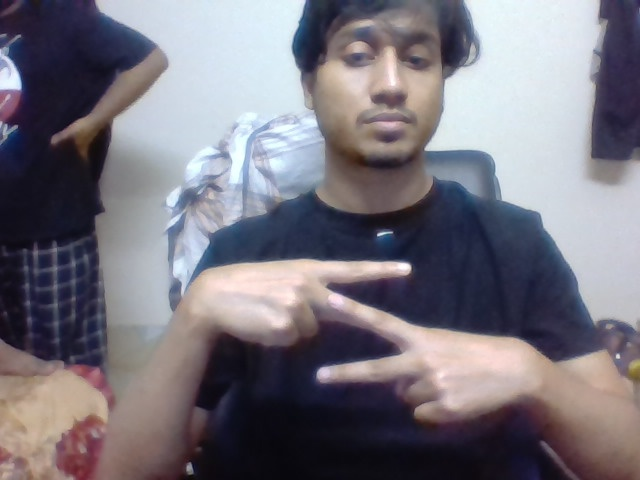Z: (313, 256, 418, 391)
